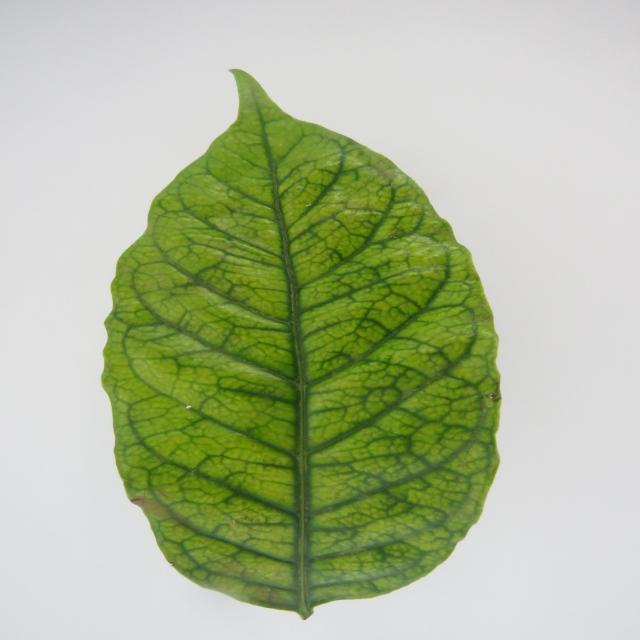DeficienciaNutricional-Hierro: (103, 70, 500, 618)
